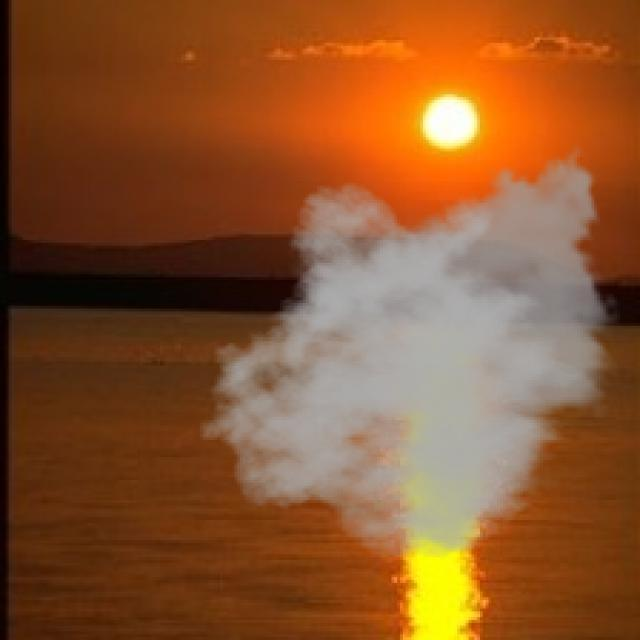Smoke: (197, 140, 623, 560)
